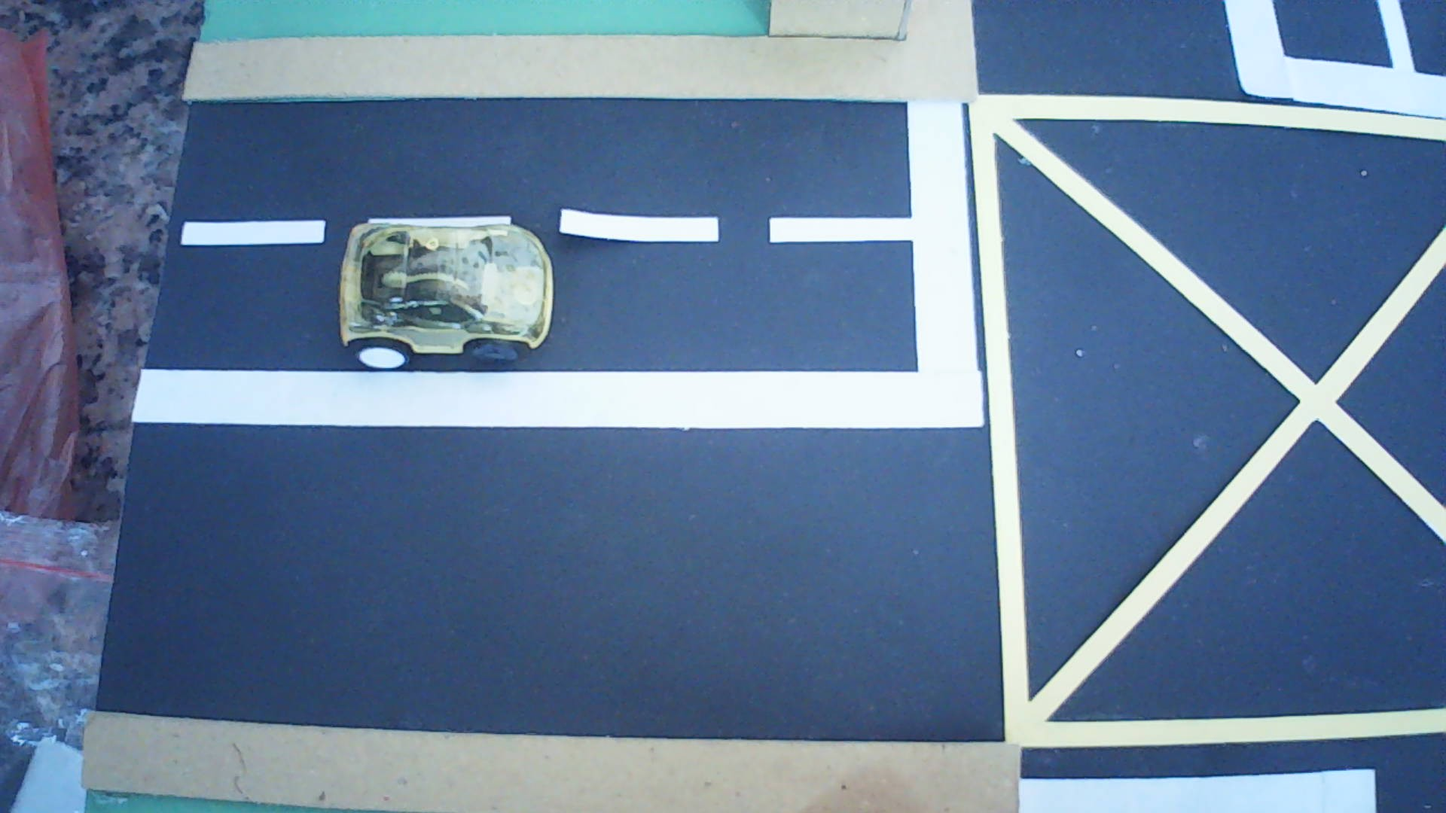Mobil kuning: (339, 223, 554, 369)
